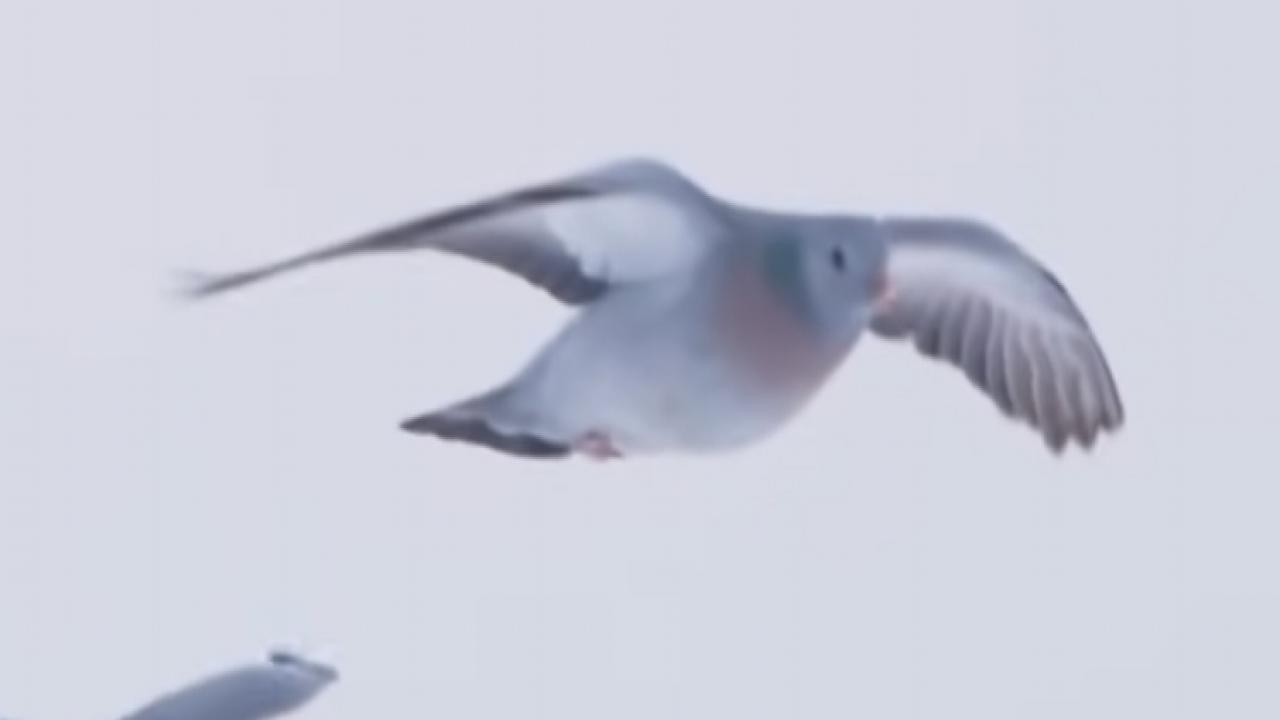Bird: (165, 150, 1130, 480)
